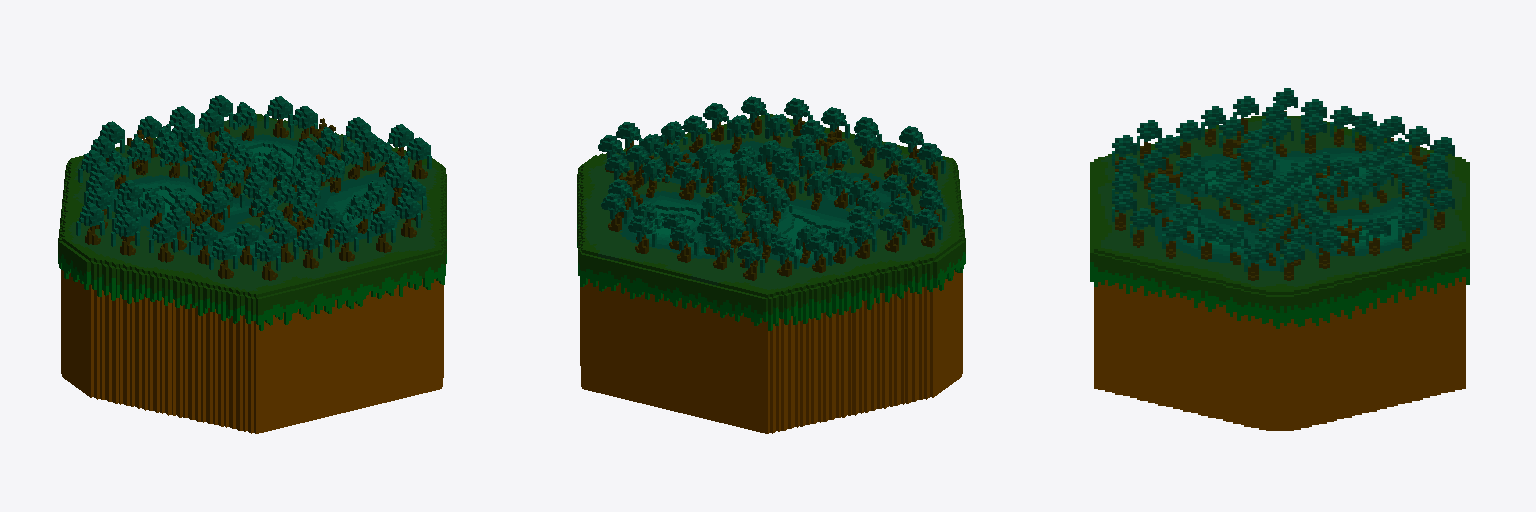
3 views of the same model, side by side, from view 1: azimuth 30°, elevation 25°; view 2: azimuth 150°, elevation 25°; view 3: azimuth 270°, elevation 25° (orthographic).
Visible parts, largest first — view 1: object 1; view 2: object 1; view 3: object 1.
Boxes of the visible parts, <box> form: object 1: <box>58,95,446,433</box>; object 1: <box>577,96,965,433</box>; object 1: <box>1090,88,1469,430</box>.
Bounding box in the file's own units: 11.8 × 5.4 × 10.6.
1 materials, 1 textured.